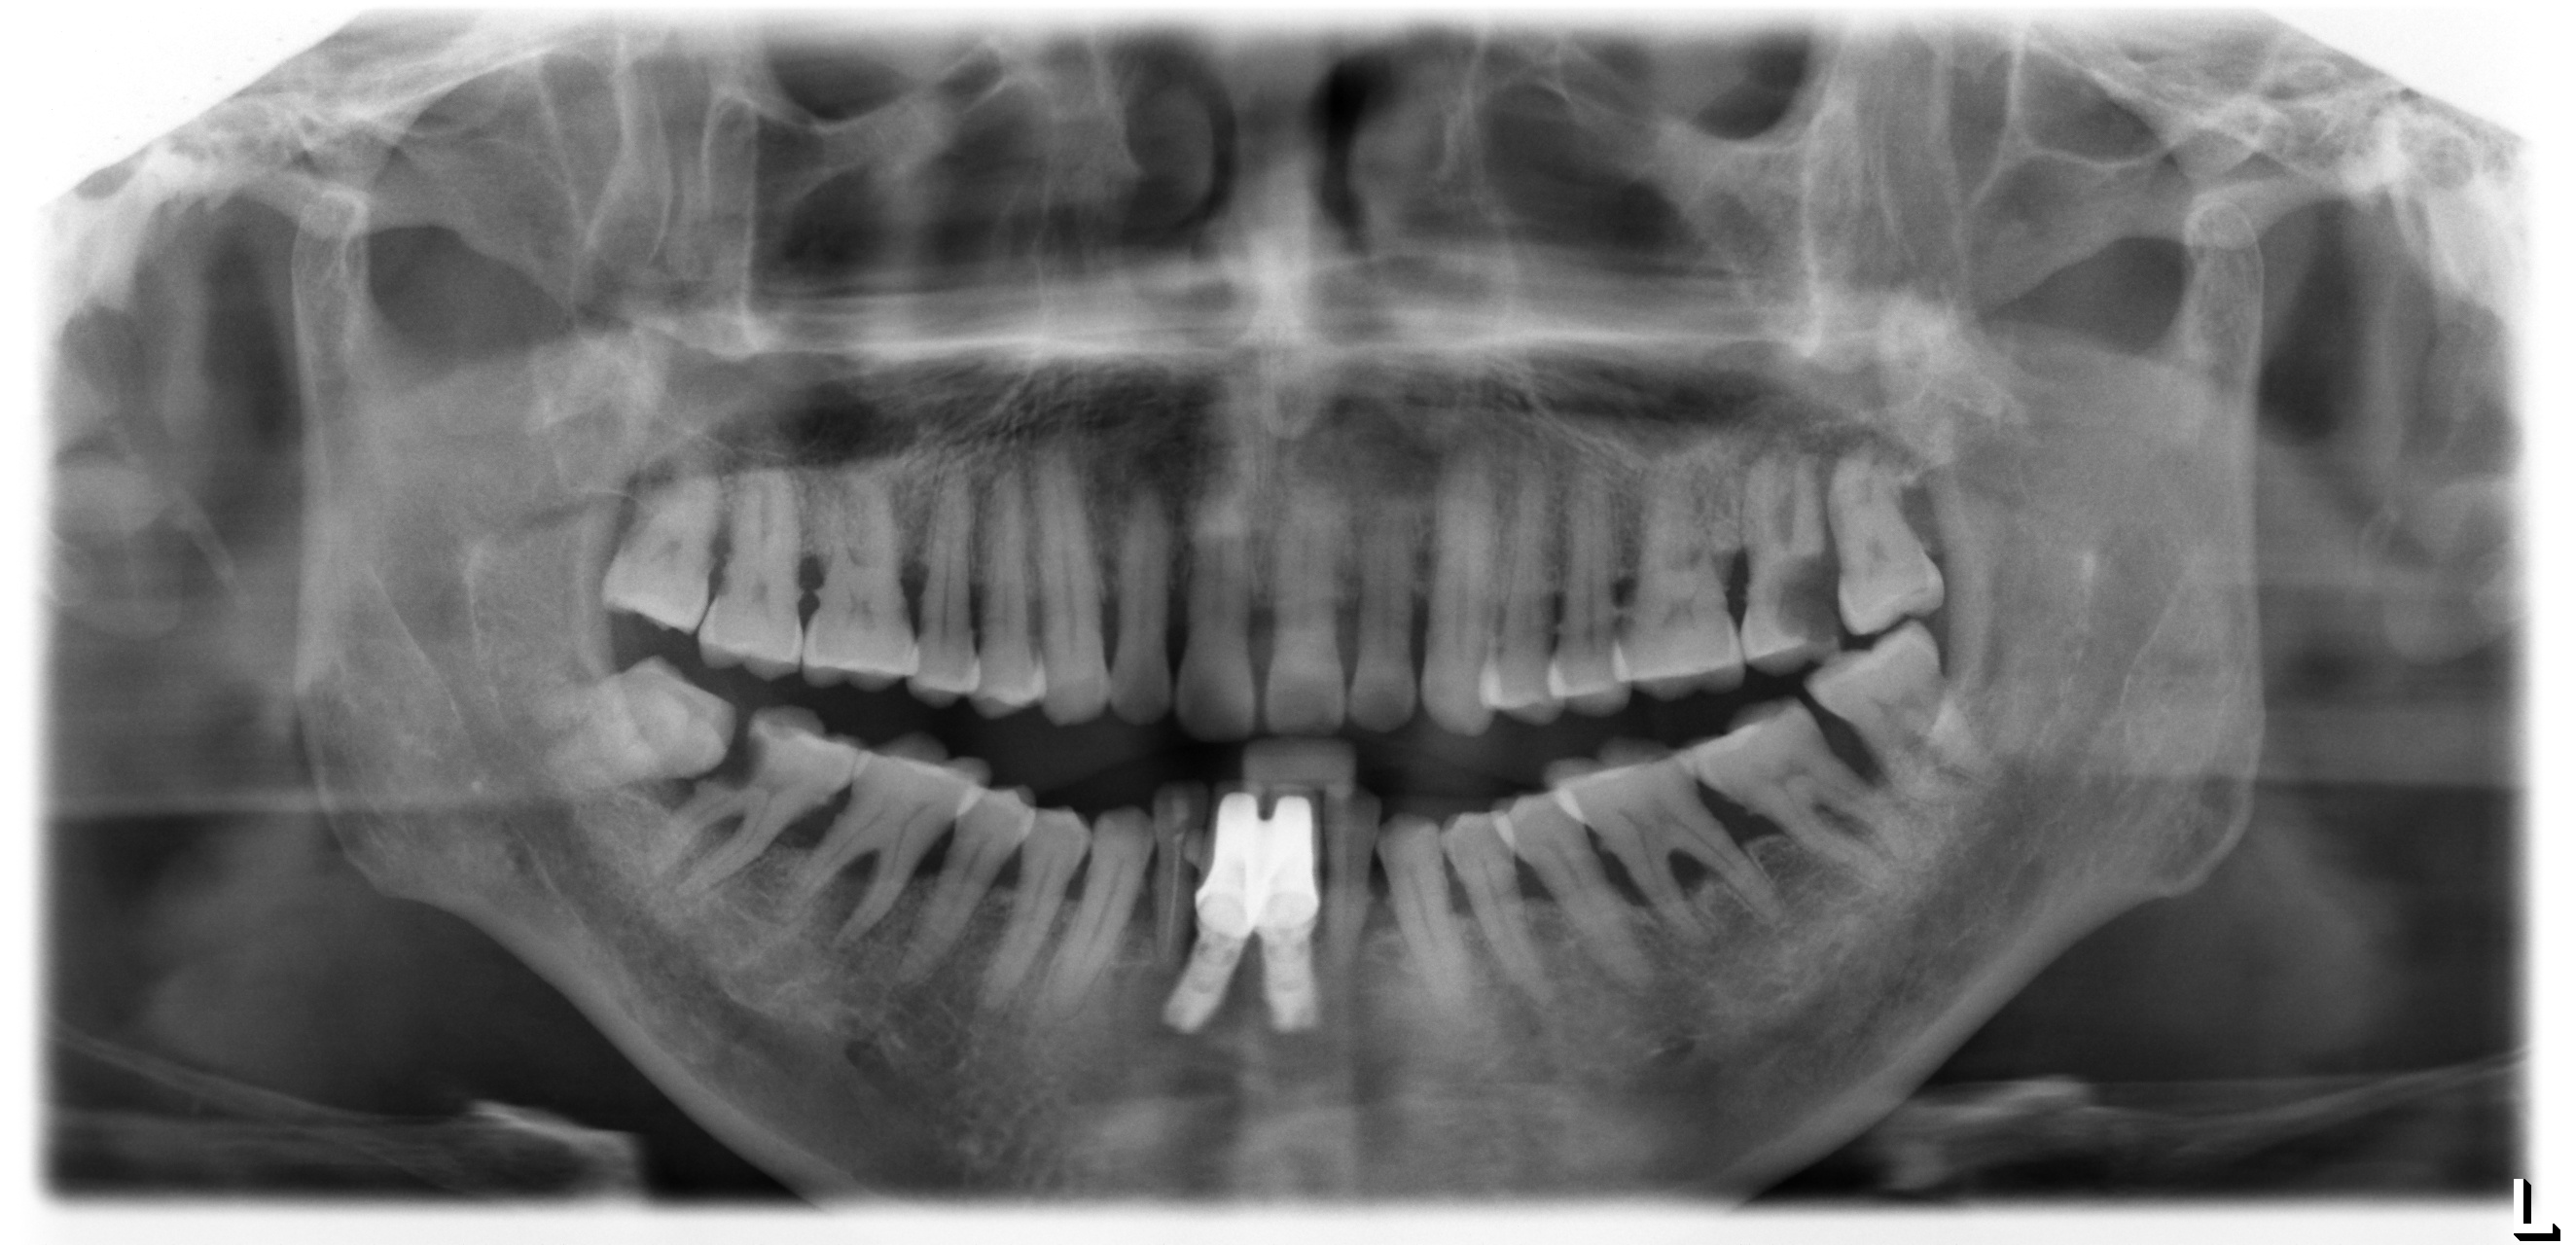Decay: (1755, 540, 1845, 668), (700, 705, 767, 802)
